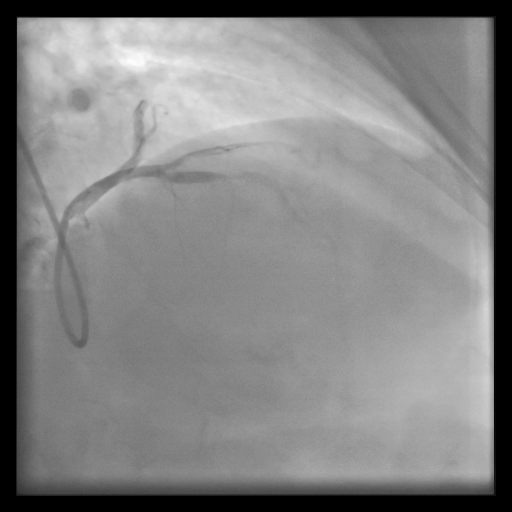Stenosis: (179, 148, 206, 167)
